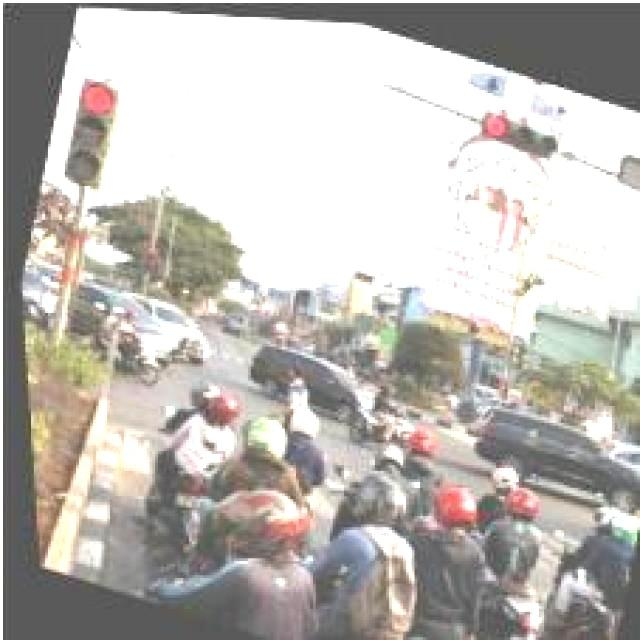Red: (54, 74, 122, 184), (474, 103, 558, 151)
